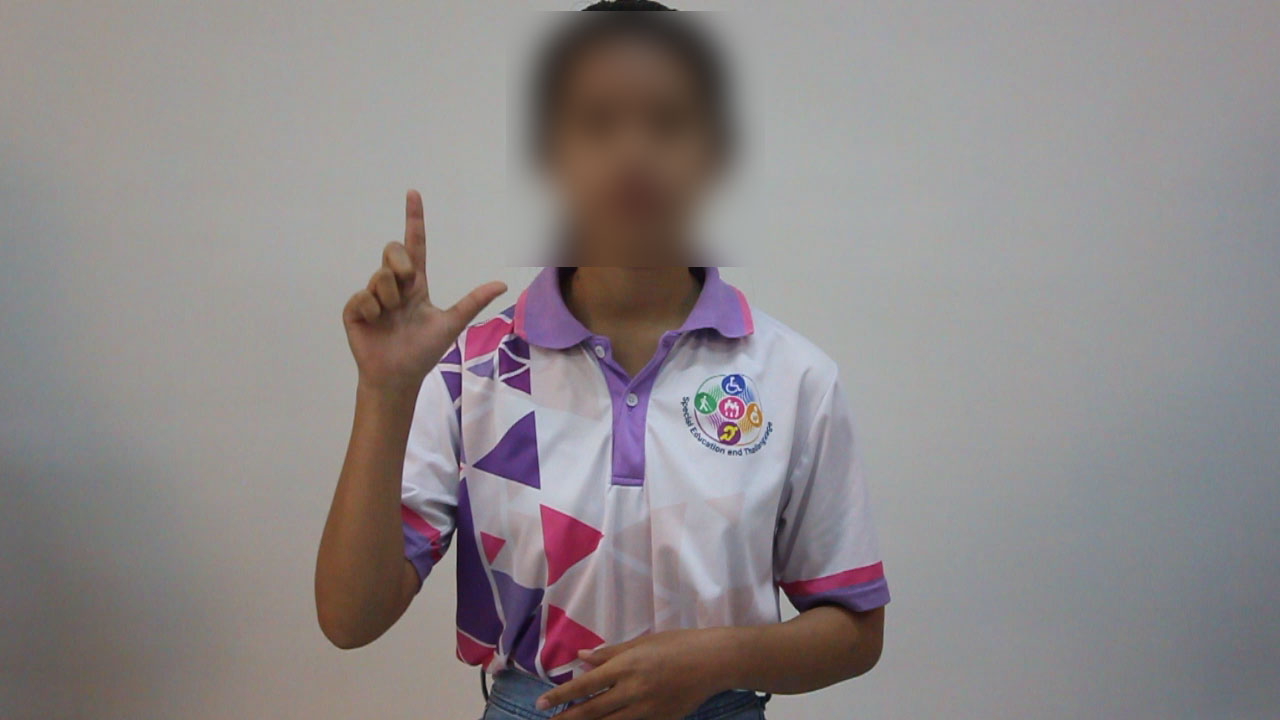lor: (293, 189, 528, 361)
